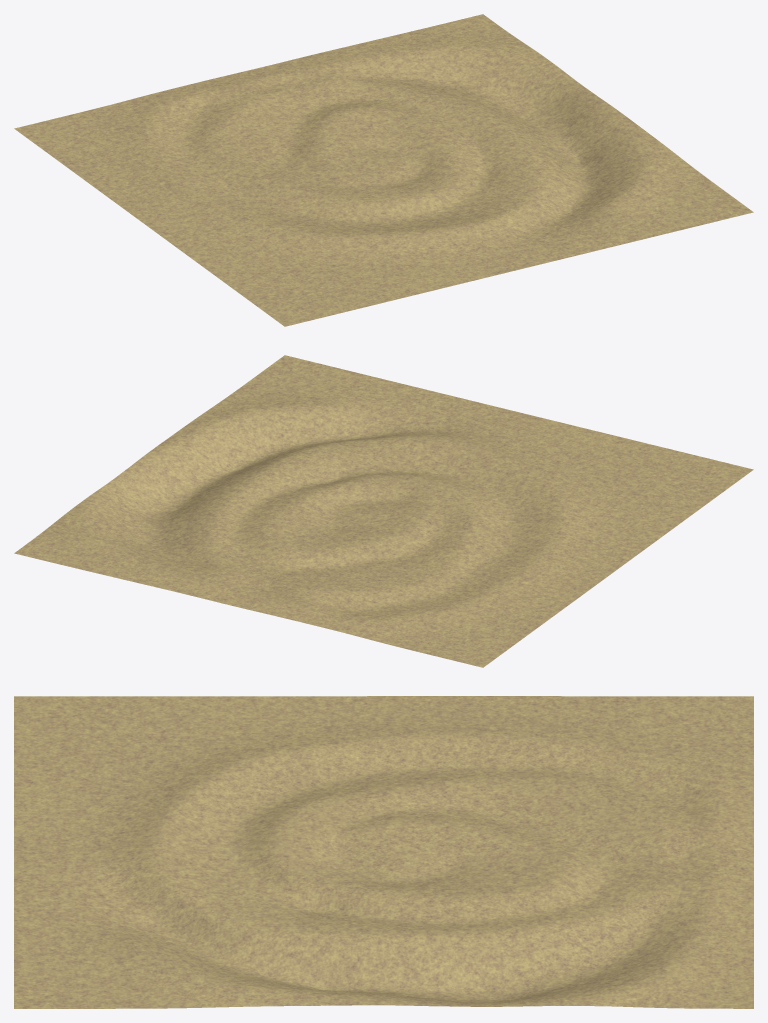
Rendered from Ground.obj.
The picture shows the model from 3 angles, top to bottom: view 1: azimuth 30°, elevation 25°; view 2: azimuth 150°, elevation 25°; view 3: azimuth 270°, elevation 25°; orthographic projection. The views are drawn at different scales.
Visible parts, largest first — view 1: 平面; view 2: 平面; view 3: 平面.
Part boxes in pixels (bbox=[...]): 平面: bbox=[14, 14, 753, 326]; 平面: bbox=[14, 355, 753, 667]; 平面: bbox=[14, 696, 753, 1008].
Size of the model in its own units: 747 by 34.24 by 747.
Materials: 1 (1 with a texture image).
